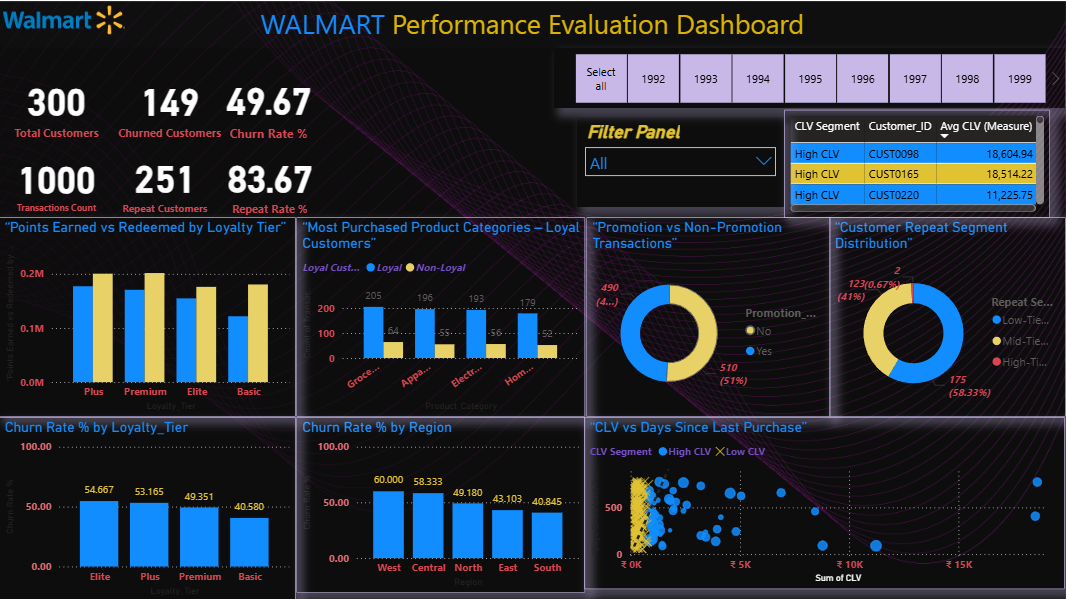

This screenshot's page, from the dashboard's own definition file:
{"tool":"powerbi","page":{"name":"dashboard","canvas":[1280,720],"ordinal":4},"visuals":[{"type":"card","fields":{"Values":["KPI_Measures.Total Customers"]},"box":[0,79.4,138.5,93.8],"z":0},{"type":"clusteredColumnChart","title":"Churn Rate % by Region","fields":{"Category":["Customer_Demographics.Region"],"Y":["KPI_Measures.Churn Rate %"]},"box":[355.8,499.4,347.2,206.1],"z":1000},{"type":"card","fields":{"Values":["KPI_Measures.Churn Rate %"]},"box":[261.1,79.4,125.5,93.8],"z":2000},{"type":"card","fields":{"Values":["KPI_Measures.Repeat Rate %"]},"box":[264,164.5,122.6,105.3],"z":3000},{"type":"card","fields":{"Values":["KPI_Measures.Repeat Customers"]},"box":[138.5,164.5,122.6,105.3],"z":4000},{"type":"card","fields":{"Values":["KPI_Measures.Churned Customers"]},"box":[138.5,79.4,134.2,93.8],"z":5000},{"type":"clusteredColumnChart","title":"“Most Purchased Product Categories – Loyal Customers”","fields":{"Category":["Customer_Transactions.Product_Category"],"Series":["Loyalty_Program.Loyal Customer Flag"],"Y":["CountNonNull(Customer_Transactions.Transaction_ID)"]},"box":[356.4,259.7,346.3,239.5],"z":6000},{"type":"donutChart","title":"“Customer Repeat Segment Distribution”","fields":{"Category":["Customer_Demographics.Repeat Segment"],"Y":["CountNonNull(Customer_Demographics.Customer_ID)"]},"box":[995.5,259.7,284.2,239.5],"z":7000},{"type":"clusteredColumnChart","title":"“Points Earned vs Redeemed by Loyalty Tier”","fields":{"Category":["Loyalty_Program.Loyalty_Tier"],"Y":["Sum(Loyalty_Program.Points_Redeemed)","Sum(Loyalty_Program.Points_Earned)"]},"box":[0,259.7,356.4,239.5],"z":8000},{"type":"donutChart","title":"“Promotion vs Non-Promotion Transactions”","fields":{"Category":["Customer_Transactions.Promotion_Applied"],"Y":["CountNonNull(Customer_Transactions.Transaction_ID)"]},"box":[705.5,259.7,292.9,239.5],"z":9000},{"type":"card","fields":{"Values":["KPI_Measures.Transactions Count"]},"box":[0,163,138.5,106.8],"z":10000},{"type":"scatterChart","title":"“CLV vs Days Since Last Purchase”","fields":{"X":["Sum(Customer_Demographics.CLV)"],"Y":["Sum(Churn_Customers.Days Since Last Purchase)"],"Category":["Customer_Demographics.Customer_ID"],"Series":["Customer_Demographics.CLV Segment"],"Size":["Sum(Customer_Demographics.Total Amount)"]},"box":[703.1,499.4,576.7,206.1],"z":11000},{"type":"slicer","fields":{"Values":["Store_Locations.Opening_Year"]},"box":[666.6,56.3,613.2,72.1],"z":12000},{"type":"textbox","box":[0,0,1279.7,56.3],"z":13000},{"type":"clusteredColumnChart","fields":{"Category":["Loyalty_Program.Loyalty_Tier"],"Y":["KPI_Measures.Churn Rate %"]},"box":[0,499.2,356.4,220.7],"z":14000},{"type":"tableEx","fields":{"Values":["Customer_Demographics.CLV Segment","Customer_Demographics.Customer_ID","KPI_Measures.Avg CLV (Measure)"]},"box":[942.1,129.8,318.9,129.8],"z":15000},{"type":"slicer","fields":{"Values":["Customer_Demographics.Region","Customer_Demographics.Preferred_Channel","Customer_Demographics.Income_Level","Loyalty_Program.Loyalty_Tier"]},"box":[692.5,139.9,249.6,108.2],"z":16000},{"type":"image","box":[0,0,155.8,46.2],"z":17000}]}

Visuals, with their boxes in screenshot pixels (x1, y1, x2, y2), scaled from the page's 1280x720 canvas onto the 1067x599 screenshot:
card - KPI_Measures.Total Customers: {"left": 0, "top": 66, "right": 115, "bottom": 144}
"Churn Rate % by Region" clusteredColumnChart: {"left": 297, "top": 415, "right": 586, "bottom": 587}
card - KPI_Measures.Churn Rate %: {"left": 218, "top": 66, "right": 322, "bottom": 144}
card - KPI_Measures.Repeat Rate %: {"left": 220, "top": 137, "right": 322, "bottom": 224}
card - KPI_Measures.Repeat Customers: {"left": 115, "top": 137, "right": 218, "bottom": 224}
card - KPI_Measures.Churned Customers: {"left": 115, "top": 66, "right": 227, "bottom": 144}
"“Most Purchased Product Categories – Loyal Customers”" clusteredColumnChart: {"left": 297, "top": 216, "right": 586, "bottom": 415}
"“Customer Repeat Segment Distribution”" donutChart: {"left": 830, "top": 216, "right": 1066, "bottom": 415}
"“Points Earned vs Redeemed by Loyalty Tier”" clusteredColumnChart: {"left": 0, "top": 216, "right": 297, "bottom": 415}
"“Promotion vs Non-Promotion Transactions”" donutChart: {"left": 588, "top": 216, "right": 832, "bottom": 415}
card - KPI_Measures.Transactions Count: {"left": 0, "top": 136, "right": 115, "bottom": 224}
"“CLV vs Days Since Last Purchase”" scatterChart: {"left": 586, "top": 415, "right": 1066, "bottom": 587}
slicer - Store_Locations.Opening_Year: {"left": 556, "top": 47, "right": 1066, "bottom": 107}
textbox: {"left": 0, "top": 0, "right": 1066, "bottom": 47}
clusteredColumnChart - Loyalty_Program.Loyalty_Tier x KPI_Measures.Churn Rate %: {"left": 0, "top": 415, "right": 297, "bottom": 598}
tableEx - Customer_Demographics.CLV Segment x Customer_Demographics.Customer_ID: {"left": 785, "top": 108, "right": 1051, "bottom": 216}
slicer - Customer_Demographics.Region x Customer_Demographics.Preferred_Channel: {"left": 577, "top": 116, "right": 785, "bottom": 206}
image: {"left": 0, "top": 0, "right": 130, "bottom": 38}
